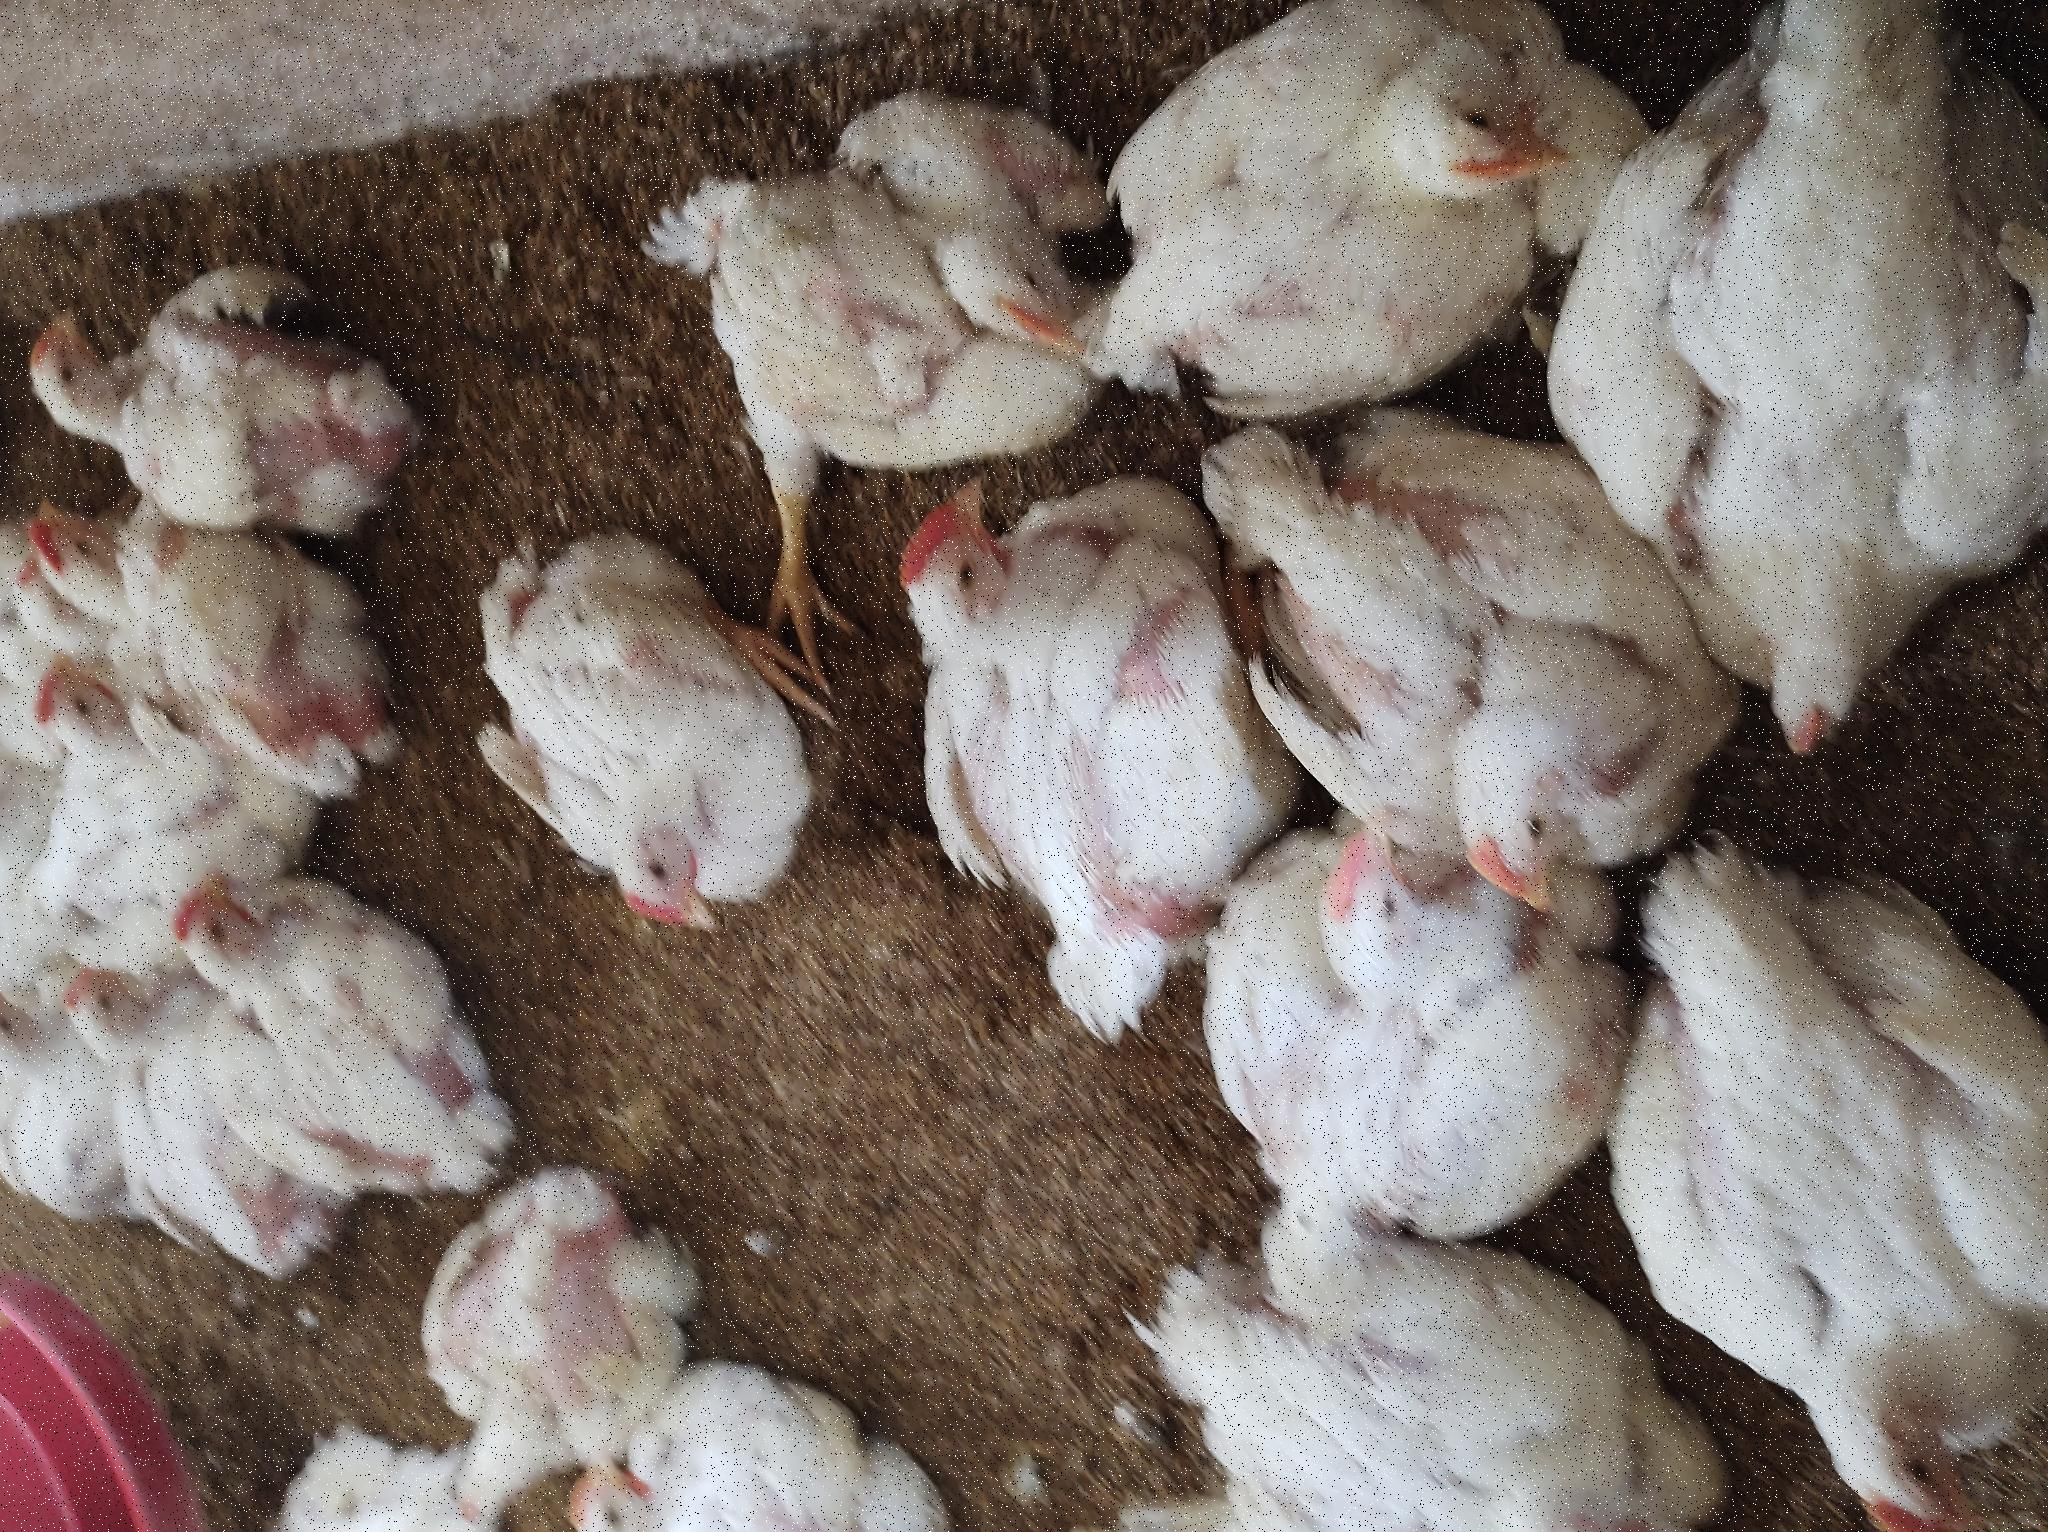Pollos: (489, 887, 1068, 1221), (1117, 1073, 1532, 1532), (582, 459, 991, 863), (1031, 706, 1440, 1081), (2, 1131, 365, 1532), (627, 1286, 1071, 1532), (314, 185, 640, 486), (18, 428, 376, 689), (1038, 10, 1261, 423), (322, 1218, 690, 1460), (2, 562, 154, 948), (627, 14, 898, 208), (890, 34, 1031, 393), (349, 51, 573, 195)
